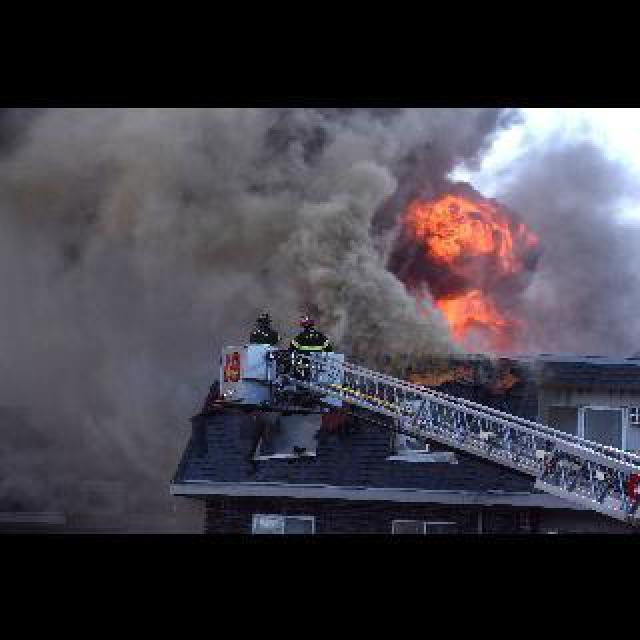Fire: (404, 182, 530, 344)
Smoke: (284, 144, 418, 324)
